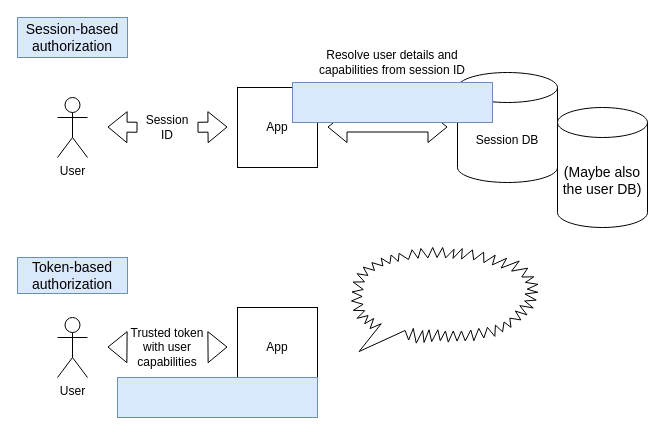
Some shapes in this 665 by 435 pixel diagram are drawn without their labels. The centre of each missing label's shape, as x and y in pixels:
I know the user is an advertiser - it says so in the token: (217,397)
Is the user an advertiser?: (392,102)
Look, no database!: (444,299)
